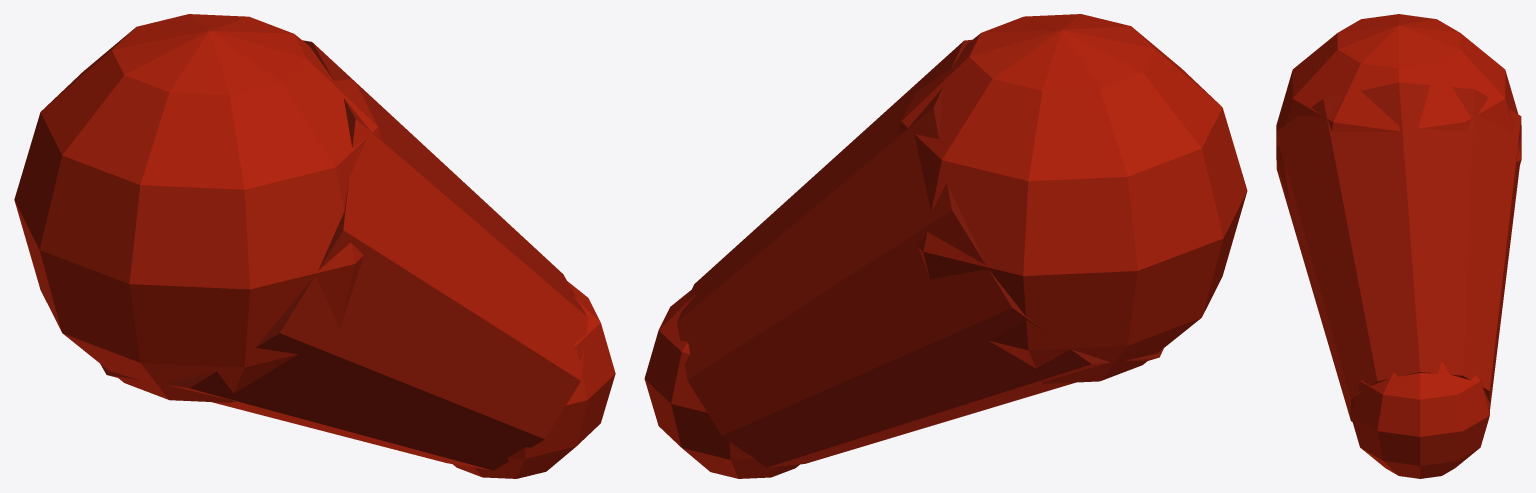
Rendered from SM_tyrannosaurus_hind_l_Upper.fbx.
3 views of the same model, side by side, from view 1: azimuth 30°, elevation 25°; view 2: azimuth 150°, elevation 25°; view 3: azimuth 270°, elevation 25° (orthographic). The views are drawn at different scales.
Parts seen in each view (by area): view 1: SM_tyrannosaurus_hind_l_Upper export; view 2: SM_tyrannosaurus_hind_l_Upper export; view 3: SM_tyrannosaurus_hind_l_Upper export.
Boxes of the visible parts, <box> form: SM_tyrannosaurus_hind_l_Upper export: <box>14,14,615,478</box>; SM_tyrannosaurus_hind_l_Upper export: <box>644,14,1247,478</box>; SM_tyrannosaurus_hind_l_Upper export: <box>1276,14,1521,478</box>.
Size of the model in its own units: 228 by 127 by 199.
